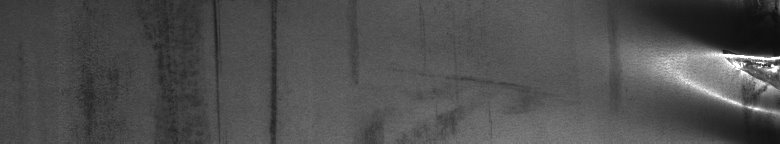ke: (681, 4, 776, 120)
